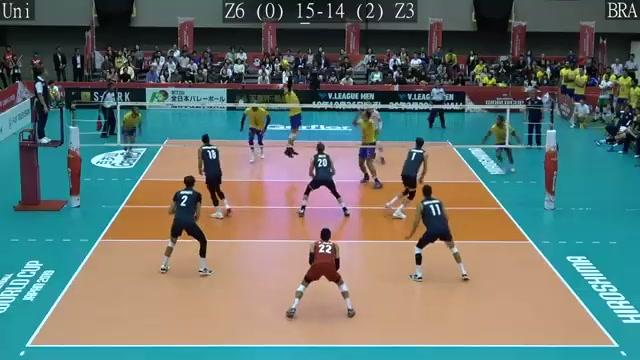ball: (279, 59, 290, 69)
